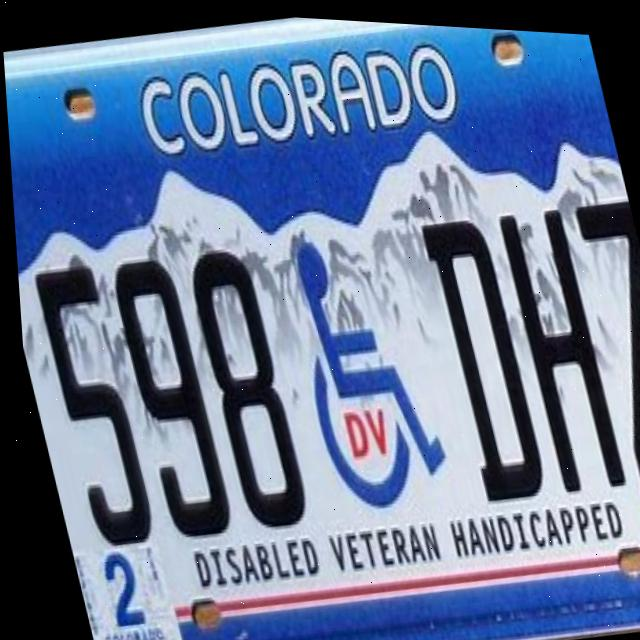symbol_of_access: (272, 221, 451, 514)
